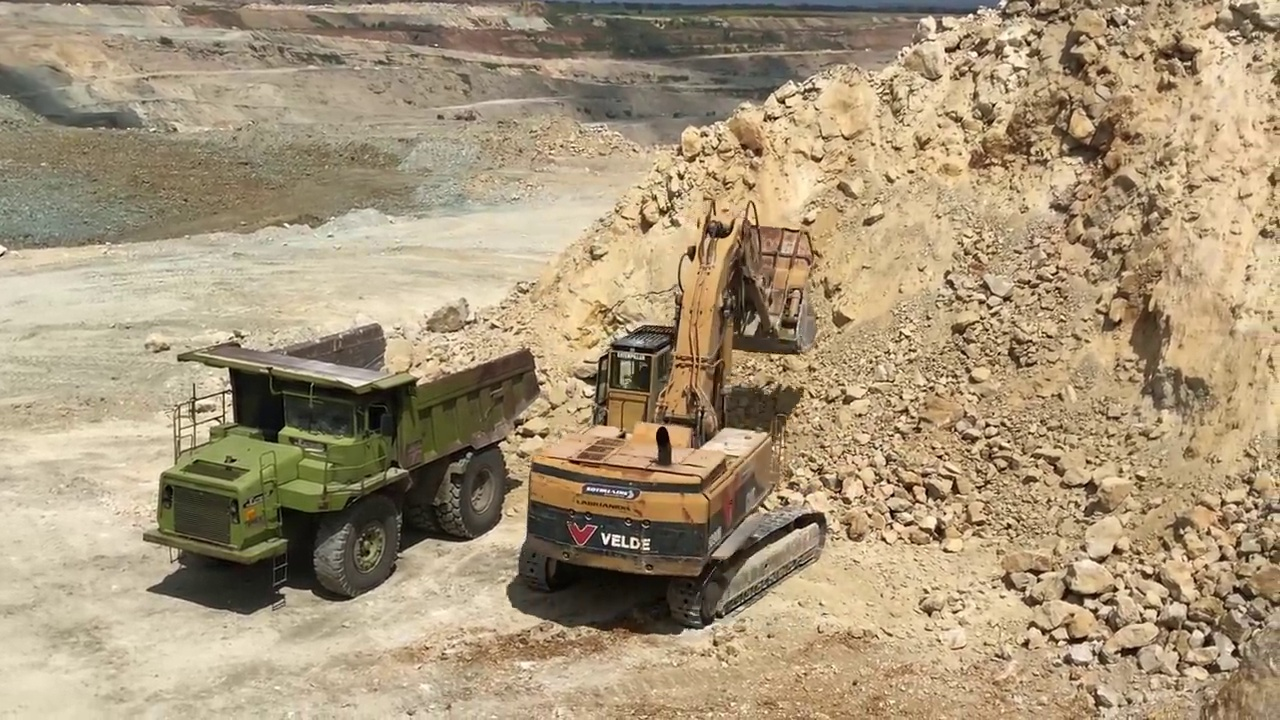truck: (142, 322, 545, 601)
wheel loader: (517, 195, 830, 628)
